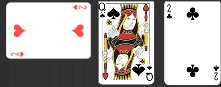2C: (166, 3, 174, 21)
2H: (72, 4, 88, 11), (10, 51, 26, 58)
